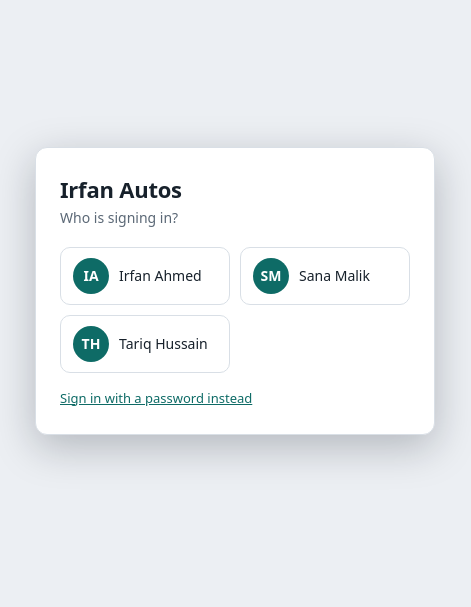
Test case: PIN-style sign-in › lets someone pick a different person
Click the button "IA Irfan Ahmed".
click(145, 276)  # box [60,247,230,305]
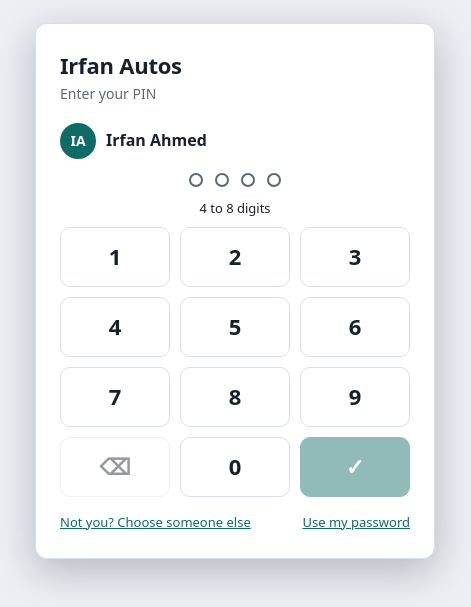
Click the button "Not you? Choose someone else".
click(155, 522)  # box [60,513,251,532]
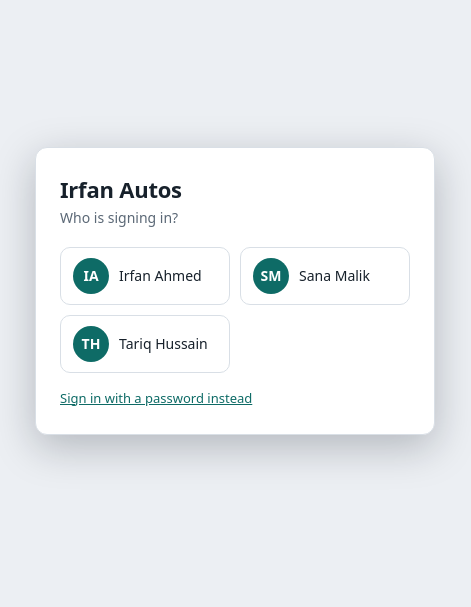
Check: the text "Who is signing in?" is shown, box [60,208,178,227]
